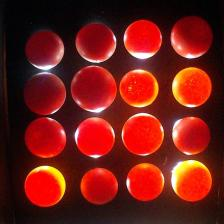fertile: (71, 65, 116, 112), (170, 15, 213, 58), (24, 72, 66, 116), (25, 117, 67, 158), (25, 29, 65, 71), (75, 22, 117, 62), (172, 116, 210, 155), (81, 167, 119, 206)
infertile: (122, 112, 164, 156), (24, 165, 66, 207), (171, 160, 213, 202), (172, 67, 212, 108), (123, 19, 163, 59), (76, 117, 115, 158), (119, 69, 159, 108), (126, 162, 164, 202)
